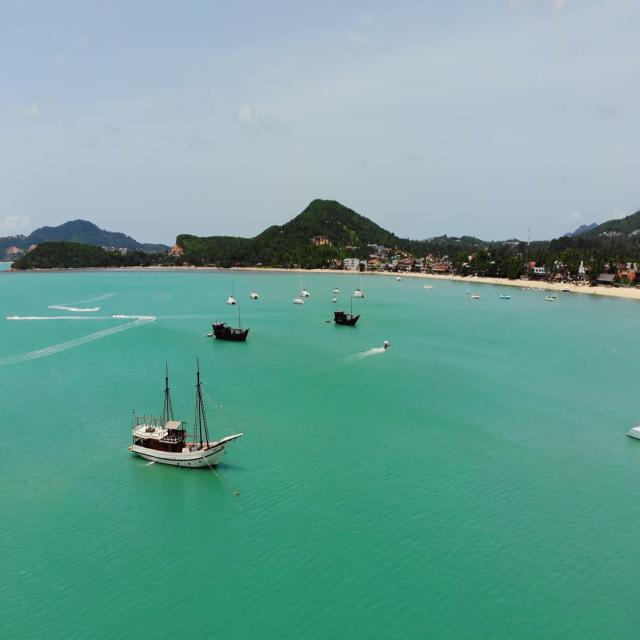fishing boat: (110, 369, 243, 468), (198, 300, 250, 342), (328, 298, 364, 342)
